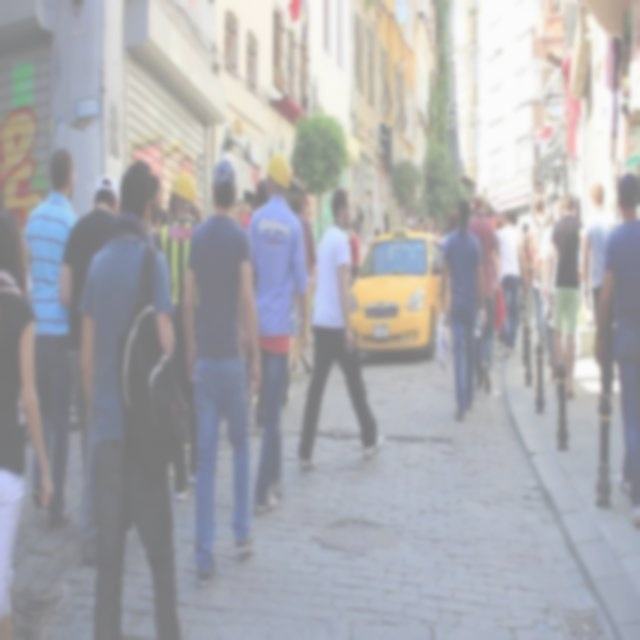pessoa: (76, 152, 192, 639), (182, 151, 266, 594), (57, 172, 126, 564), (295, 182, 386, 474), (0, 196, 59, 639), (246, 150, 312, 514), (20, 145, 80, 536), (592, 170, 640, 530), (156, 170, 204, 506), (432, 194, 489, 420), (545, 190, 587, 402), (581, 180, 619, 396), (466, 192, 504, 398), (284, 188, 317, 409), (494, 208, 530, 362), (485, 198, 537, 302), (144, 170, 208, 250), (527, 192, 552, 344), (407, 204, 463, 260), (227, 170, 274, 230), (346, 204, 371, 284), (542, 296, 564, 386), (540, 189, 575, 227), (166, 436, 192, 484), (490, 321, 508, 352)
